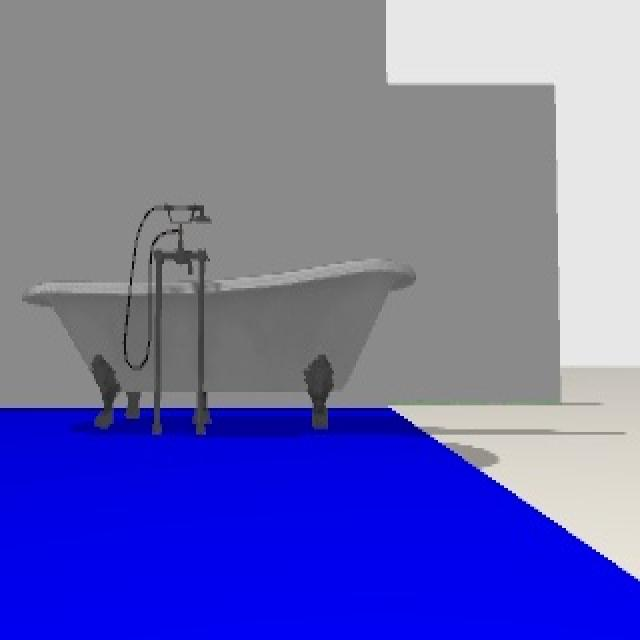bathtub: (26, 198, 420, 438)
